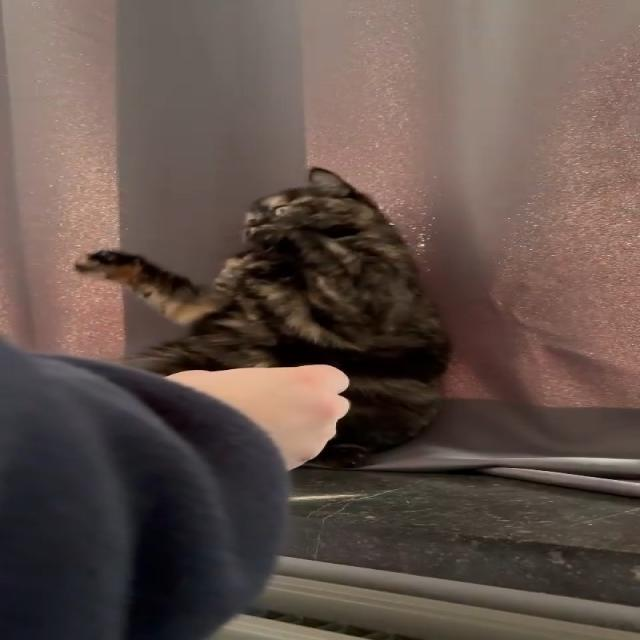authorized: (72, 165, 453, 469)
